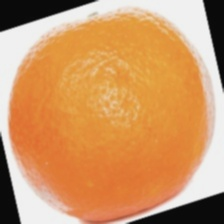orange: (4, 0, 187, 197)
